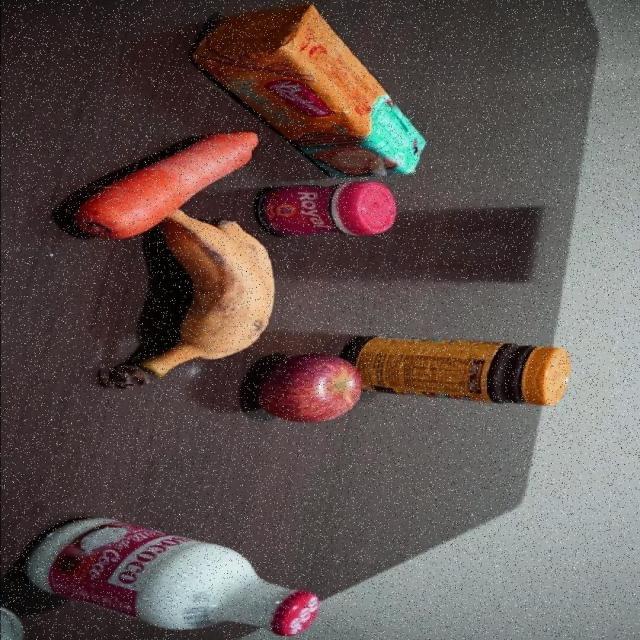Apple: (263, 352, 363, 423)
Banana: (85, 240, 273, 388)
Carrot: (62, 122, 257, 206)
ChocolatePowder: (371, 339, 576, 407)
CoconutMilk: (25, 516, 329, 638)
Cracker: (276, 0, 430, 177)
Yeast: (256, 182, 402, 240)
